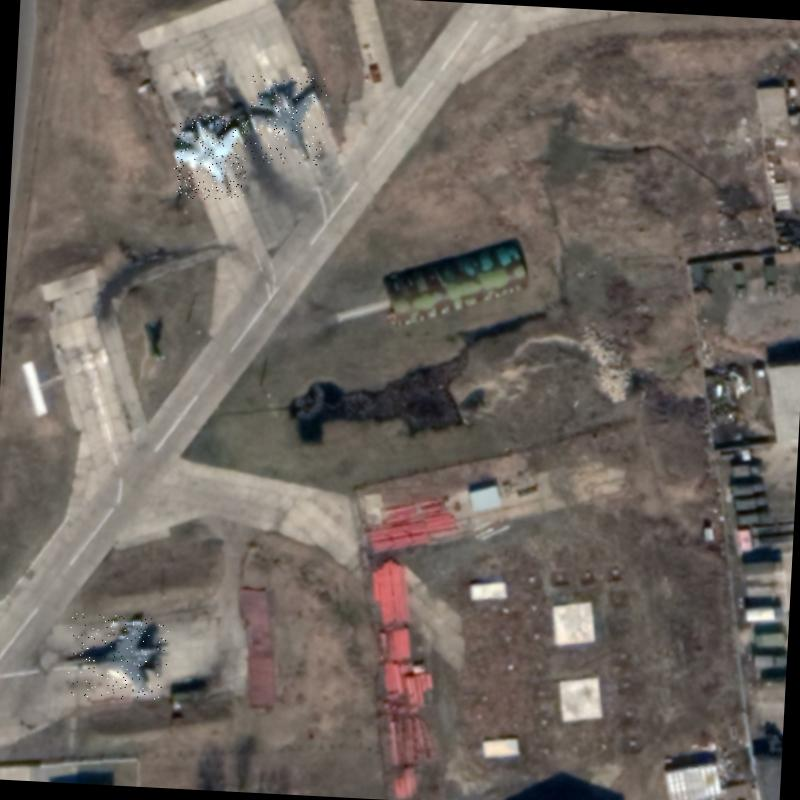A1: (67, 613, 169, 701), (247, 74, 328, 166), (172, 114, 248, 202)
